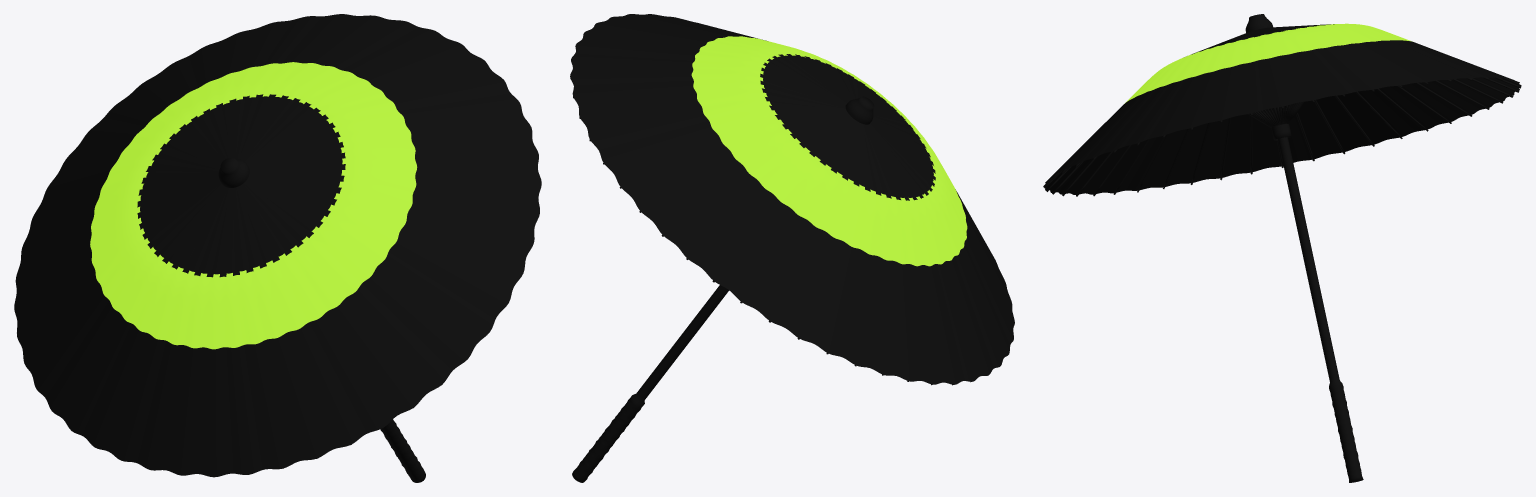
3 renders of one model, left to right at view 1: azimuth 30°, elevation 25°; view 2: azimuth 150°, elevation 25°; view 3: azimuth 270°, elevation 25°, orthographic. The views are drawn at different scales.
Visible parts, largest first — view 1: kasa, hone; view 2: kasa, hone; view 3: kasa, hone.
Part boxes in pixels (x1,y1,x2,y2): kasa: (14, 14, 541, 477); hone: (218, 157, 442, 482); kasa: (570, 14, 1014, 384); hone: (570, 78, 970, 482); kasa: (1043, 23, 1521, 194); hone: (1044, 14, 1520, 482).
Bounding box in the file's own units: 1.66 × 1.72 × 1.9.
